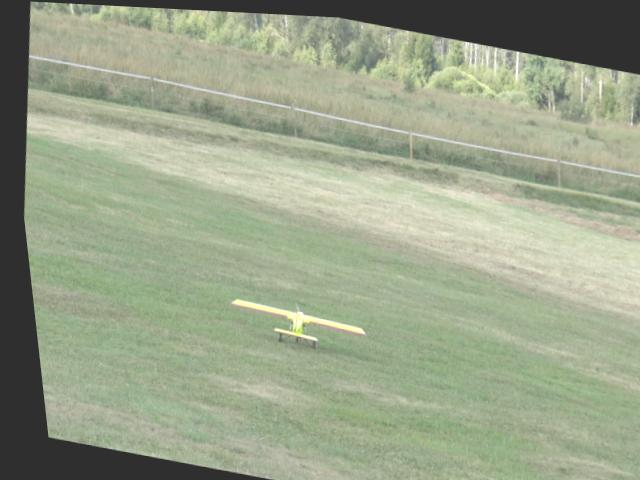plane: (221, 293, 363, 355)
